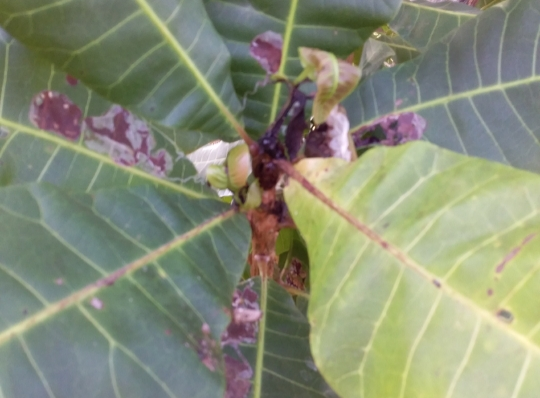Dessèchement des bourgeons: (255, 101, 296, 283)
